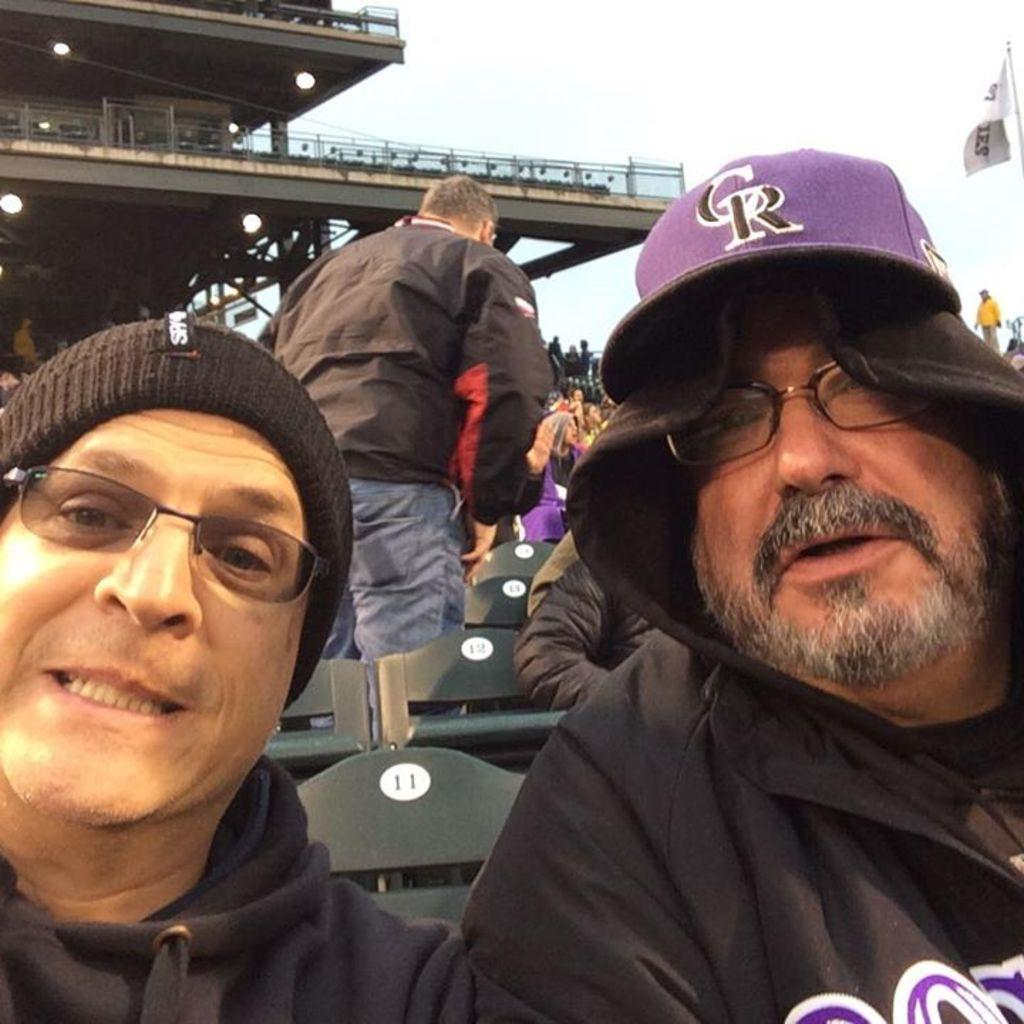Hat: (589, 145, 967, 405)
